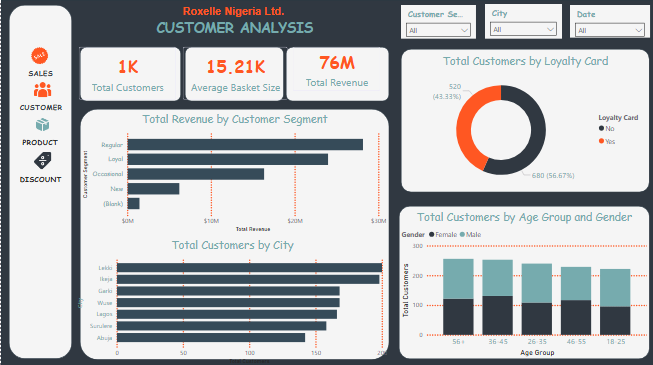

Layout of this report page (visuals, bound fields, positions):
{"tool":"powerbi","page":{"name":"CUSTOMER BEHAVIOUR","canvas":[1280,720],"ordinal":1},"visuals":[{"type":"shape","box":[0,0,1280.9,719.1],"z":0},{"type":"shape","box":[14.9,10.6,123.4,693.6],"z":1000},{"type":"shape","box":[155.3,91.5,197.9,106.4],"z":2000},{"type":"shape","box":[361.7,91.5,193.6,106.4],"z":3000},{"type":"shape","box":[559.6,91.5,202.1,106.4],"z":4000},{"type":"shape","box":[155.3,212.8,606.4,491.5],"z":5000},{"type":"shape","box":[785.1,95.7,487.2,280.9],"z":6000},{"type":"cardVisual","fields":{"Data":["Measures (2).Total Customers"]},"box":[136.2,74.5,225.5,138.3],"z":7000},{"type":"cardVisual","fields":{"Data":["Measures (2).Total Revenue"]},"box":[555.3,74.5,206.4,121.3],"z":8000},{"type":"cardVisual","fields":{"Data":["Measures (2).Average Basket Size"]},"box":[338.3,74.5,240.4,138.3],"z":9000},{"type":"slicer","fields":{"Values":["date.Date"]},"box":[1114.9,10.6,157.4,63.8],"z":10000},{"type":"slicer","fields":{"Values":["customers.City"]},"box":[948.9,8.5,151.1,68.1],"z":11000},{"type":"slicer","fields":{"Values":["customers.CustomerSegment"]},"box":[785.1,10.6,146.8,66],"z":12000},{"type":"textbox","box":[155.2,0,606.9,91.4],"z":13000},{"type":"clusteredBarChart","title":"Total Revenue by Customer Segment","fields":{"Category":["customers.CustomerSegment"],"Y":["Measures (2).Total Revenue"]},"box":[155.3,212.8,606.4,246.8],"z":14000},{"type":"clusteredBarChart","fields":{"Category":["customers.City"],"Y":["Measures (2).Total Customers"]},"box":[144.7,459.6,617,259.6],"z":15000},{"type":"donutChart","fields":{"Category":["customers.LoyaltyCard"],"Y":["Measures (2).Total Customers"]},"box":[785.1,97.9,487.2,278.7],"z":16000},{"type":"shape","box":[780.9,404.3,491.5,300],"z":17000},{"type":"columnChart","fields":{"Y":["Measures (2).Total Customers"],"Category":["customers.Age Group"],"Series":["customers.Gender"]},"box":[780.9,404.3,491.5,300],"z":18000},{"type":"image","box":[58.6,91.4,34.5,34.5],"z":19000},{"type":"image","box":[63.8,227.6,34.5,34.5],"z":20000},{"type":"image","box":[63.8,298.3,34.5,34.5],"z":21000},{"type":"image","box":[63.8,158.6,34.5,34.5],"z":22000},{"type":"textbox","box":[37.3,127.6,81,31],"z":23000},{"type":"textbox","box":[26.9,194.8,101.7,32.8],"z":24000},{"type":"textbox","box":[32.1,262.1,91.4,36.2],"z":25000},{"type":"textbox","box":[31.3,336.2,93.1,32.8],"z":26000}]}

Visuals, with their boxes on the page's 1280x720 design canvas (x1, y1, x2, y2). These are canvas units, not pixel positions in the 653x365 screenshot, which may show the page scaled, cropped or inside an application window:
shape: locate(0, 0, 1281, 719)
shape: locate(15, 11, 138, 704)
shape: locate(155, 92, 353, 198)
shape: locate(362, 92, 555, 198)
shape: locate(560, 92, 762, 198)
shape: locate(155, 213, 762, 704)
shape: locate(785, 96, 1272, 377)
cardVisual - Measures (2).Total Customers: locate(136, 74, 362, 213)
cardVisual - Measures (2).Total Revenue: locate(555, 74, 762, 196)
cardVisual - Measures (2).Average Basket Size: locate(338, 74, 579, 213)
slicer - date.Date: locate(1115, 11, 1272, 74)
slicer - customers.City: locate(949, 8, 1100, 77)
slicer - customers.CustomerSegment: locate(785, 11, 932, 77)
textbox: locate(155, 0, 762, 91)
"Total Revenue by Customer Segment" clusteredBarChart: locate(155, 213, 762, 460)
clusteredBarChart - customers.City x Measures (2).Total Customers: locate(145, 460, 762, 719)
donutChart - customers.LoyaltyCard x Measures (2).Total Customers: locate(785, 98, 1272, 377)
shape: locate(781, 404, 1272, 704)
columnChart - Measures (2).Total Customers x customers.Age Group: locate(781, 404, 1272, 704)
image: locate(59, 91, 93, 126)
image: locate(64, 228, 98, 262)
image: locate(64, 298, 98, 333)
image: locate(64, 159, 98, 193)
textbox: locate(37, 128, 118, 159)
textbox: locate(27, 195, 129, 228)
textbox: locate(32, 262, 124, 298)
textbox: locate(31, 336, 124, 369)
